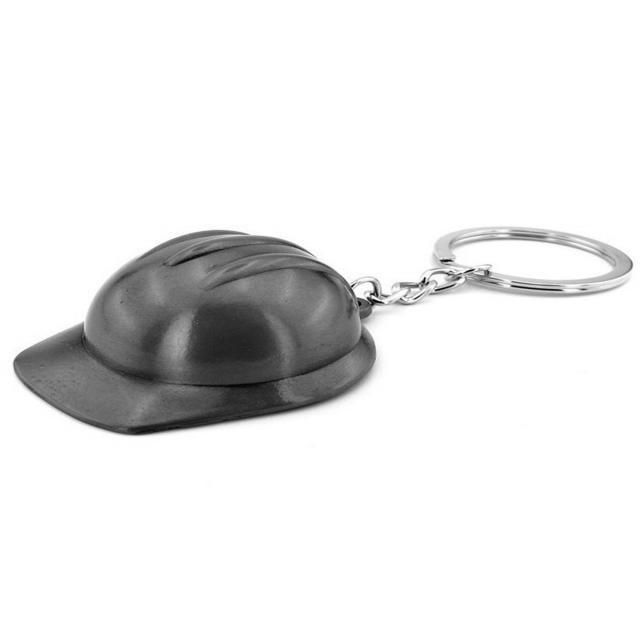safety_helmet: (12, 231, 377, 438)
